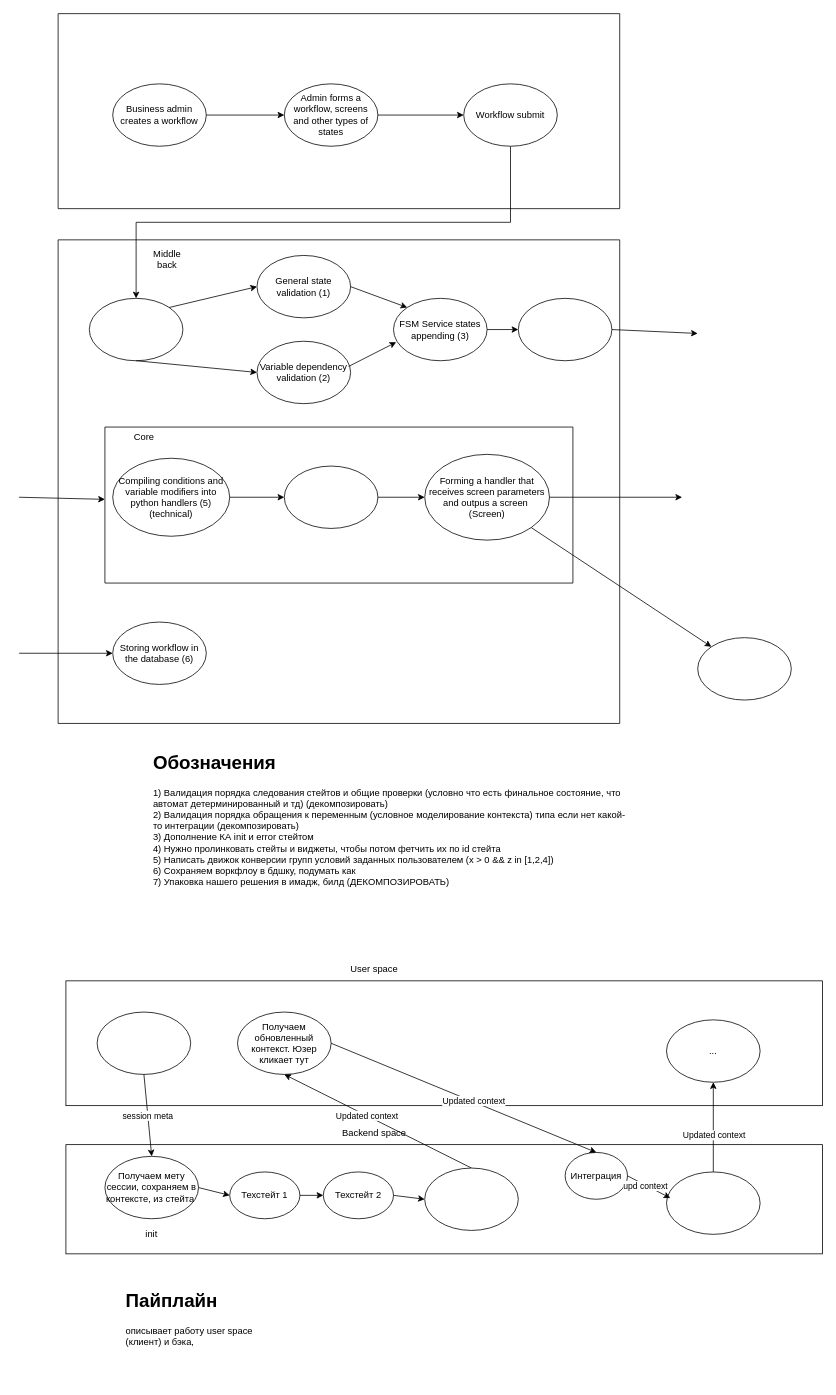
Some shapes in this 836 by 1395 pixel diagram are drawn without their labels. Each missing label, with the box of its shape:
Adding handlers to app and deploy (7): (697, 637, 791, 700)
Frontend: (57, 13, 620, 209)
Map widgets, states and events (4): (518, 298, 612, 361)
Screen 1: (424, 1167, 518, 1230)
Screen 2: (666, 1171, 760, 1234)
Using adapters for external api calls (integrations): (284, 465, 378, 528)
Workflow validation process: (89, 298, 183, 361)
Начало работы, проваливаемся в точку входа: (96, 1011, 191, 1074)
